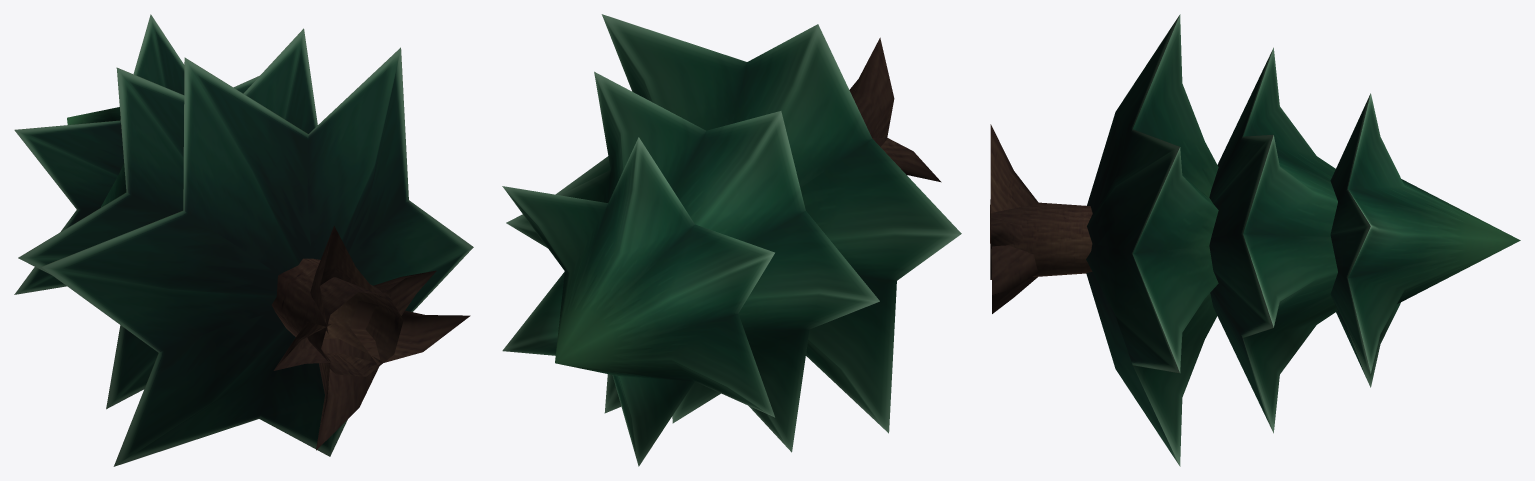
The model's file is Pine_Tree_B.fbx.
3 views of the same model, side by side, from view 1: azimuth 30°, elevation 25°; view 2: azimuth 150°, elevation 25°; view 3: azimuth 270°, elevation 25° (orthographic). The views are drawn at different scales.
Visible parts, largest first — view 1: Pine_Tree_B; view 2: Pine_Tree_B; view 3: Pine_Tree_B.
Part boxes in pixels (x1,y1,x2,y2): Pine_Tree_B: [14, 14, 473, 466]; Pine_Tree_B: [502, 14, 961, 466]; Pine_Tree_B: [990, 14, 1520, 466].
Bounding box in the file's own units: 60.28 × 57.91 × 71.53.
